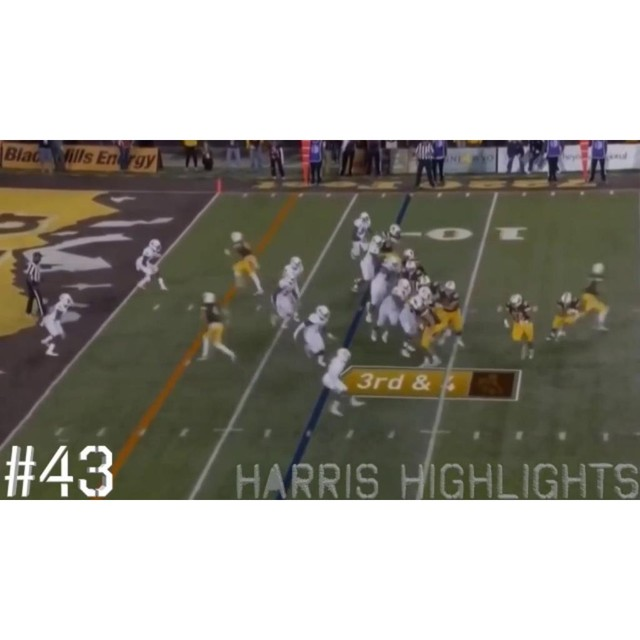american-football-player: (369, 275, 412, 347), (321, 347, 365, 416), (196, 292, 238, 364), (364, 253, 401, 322), (226, 232, 264, 298), (294, 305, 333, 368), (39, 293, 77, 357), (578, 263, 611, 334), (504, 294, 538, 361), (433, 281, 466, 350), (271, 267, 303, 334), (352, 231, 385, 293), (135, 239, 168, 293), (548, 291, 581, 343), (348, 211, 372, 261)
referee: (22, 251, 47, 320)
